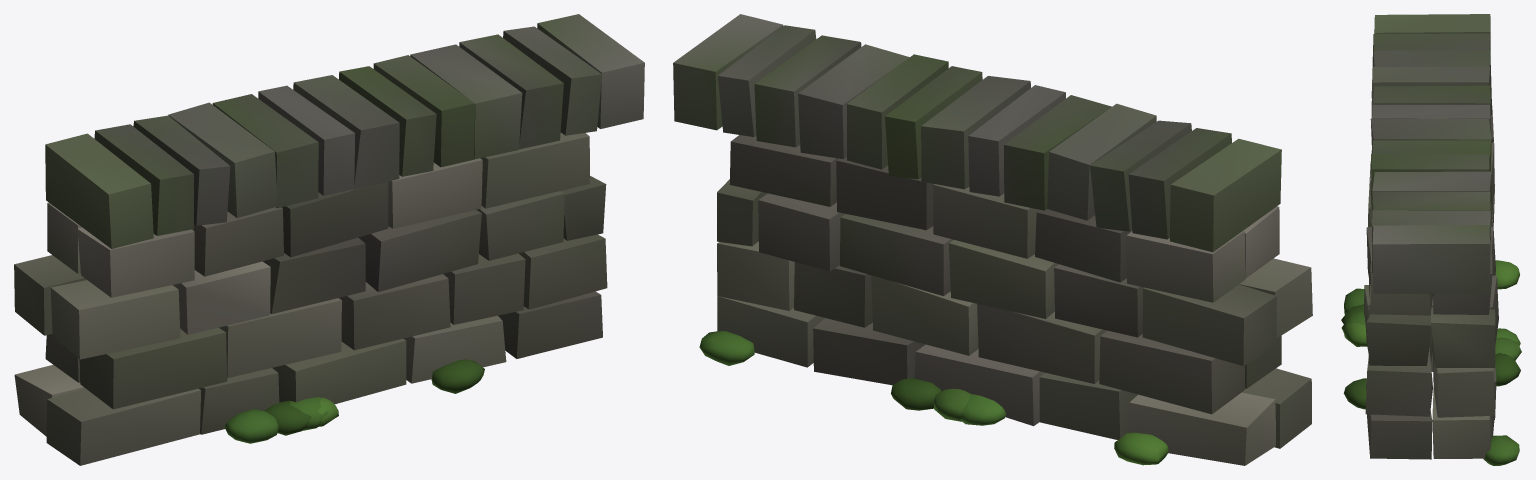
The model's file is wall_seg.glb.
3 renders of one model, left to right at view 1: azimuth 30°, elevation 25°; view 2: azimuth 150°, elevation 25°; view 3: azimuth 270°, elevation 25°, orthographic. The views are drawn at different scales.
Parts seen in each view (by area): view 1: wall_seg; view 2: wall_seg; view 3: wall_seg.
Part boxes in pixels (bbox=[...]): wall_seg: bbox=[14, 14, 644, 465]; wall_seg: bbox=[673, 14, 1312, 465]; wall_seg: bbox=[1341, 14, 1521, 465].
Bounding box in the file's own units: 2.75 × 1.3 × 0.8595.
